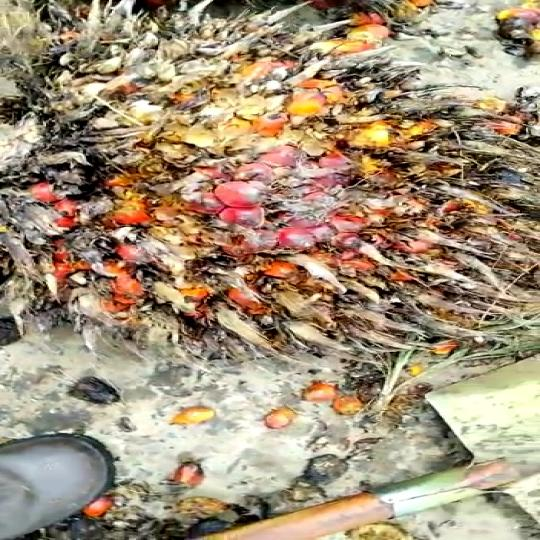terlalu masak: (0, 4, 529, 353)
